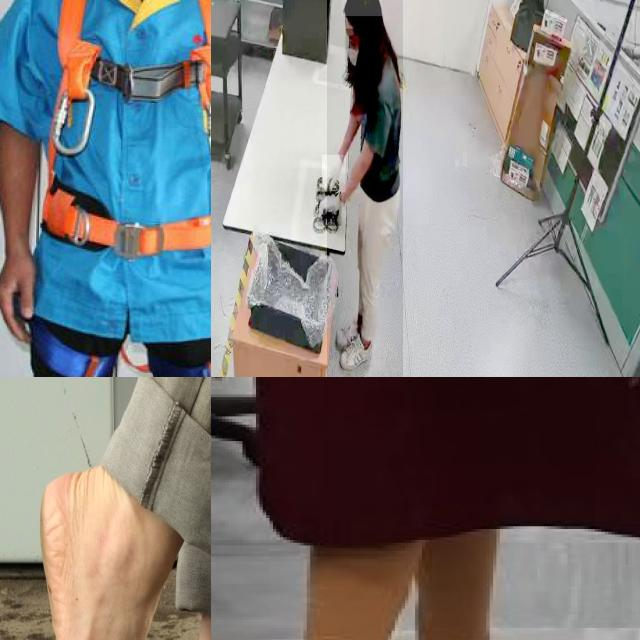Barefoots: (39, 470, 141, 640)
Harness: (35, 0, 211, 375)
face_mask: (345, 29, 363, 73)
hand_glove: (322, 155, 346, 192), (318, 191, 342, 227)
head_nohelmet: (341, 0, 382, 17)
person: (326, 0, 403, 377)
shoes: (341, 334, 372, 374), (335, 316, 361, 351)
